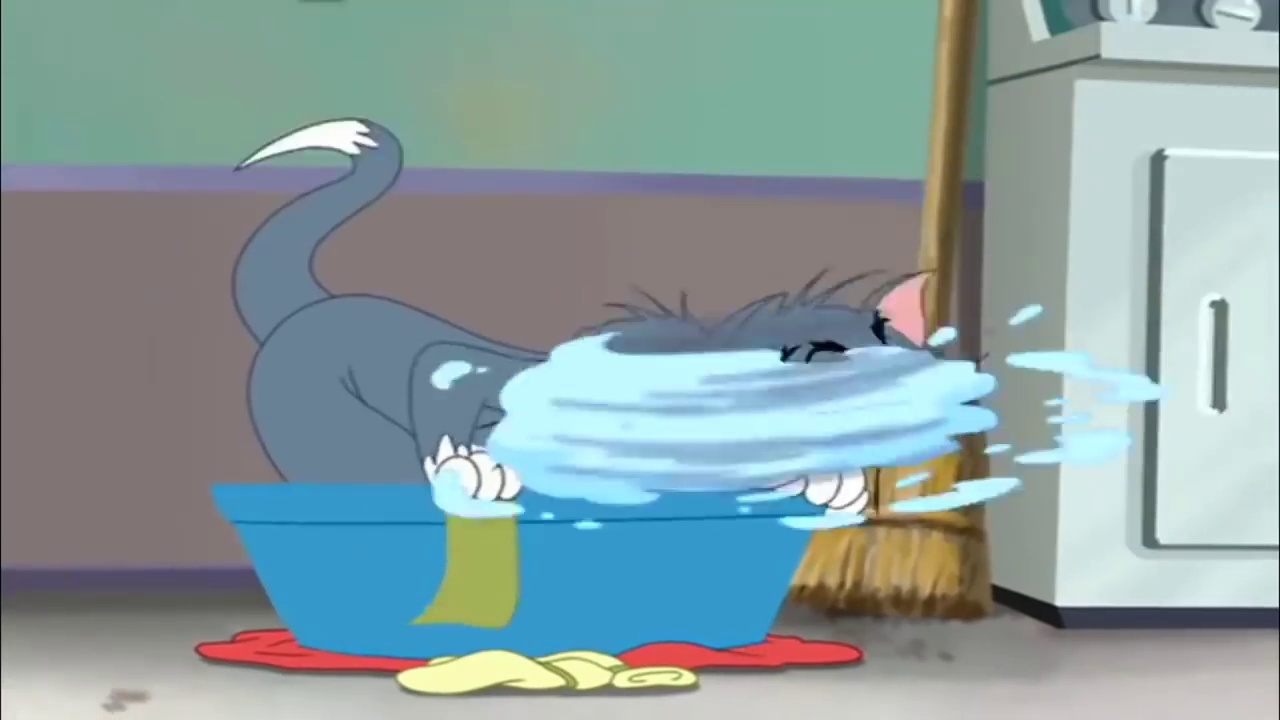face: (743, 308, 933, 451)
